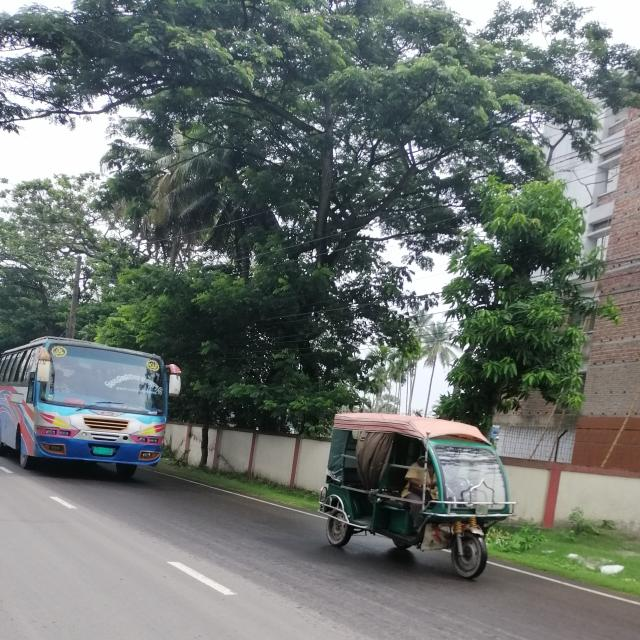Bus: (2, 338, 176, 487)
Easybike: (304, 389, 527, 583)
